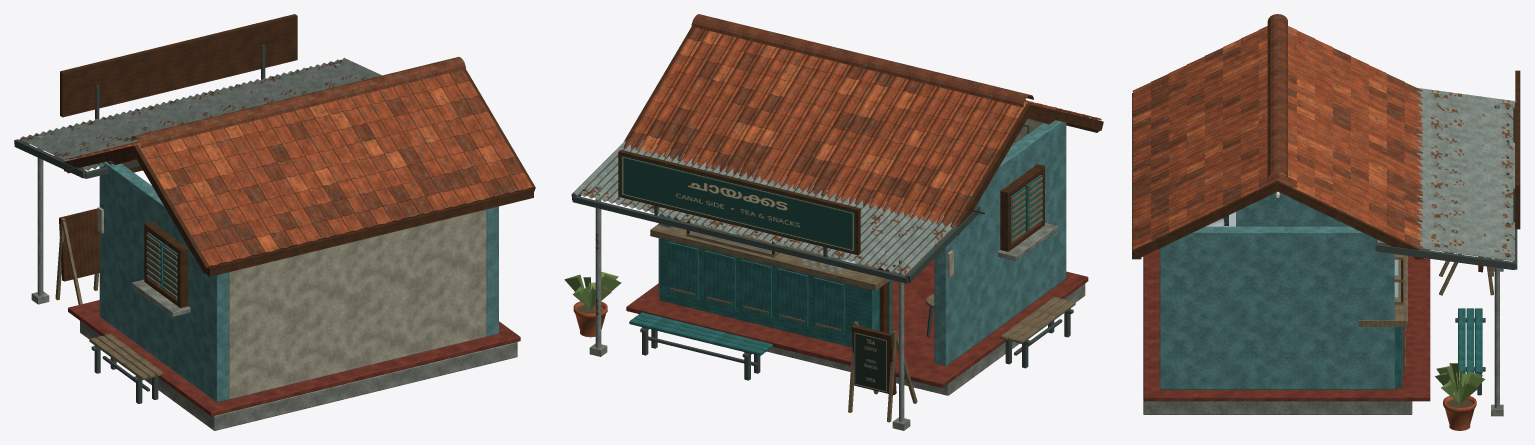
Rendered from BLD_TeaShop_Open_01.gltf.
3 views of the same model, side by side, from view 1: azimuth 30°, elevation 25°; view 2: azimuth 150°, elevation 25°; view 3: azimuth 270°, elevation 25° (orthographic). The views are drawn at different scales.
Parts seen in each view (by area): view 1: TF3_BLD_TeaShop_Open_01; view 2: TF3_BLD_TeaShop_Open_01; view 3: TF3_BLD_TeaShop_Open_01.
Boxes of the visible parts, x1,y1,x2,y2 form: TF3_BLD_TeaShop_Open_01: (14,14,535,430); TF3_BLD_TeaShop_Open_01: (564,14,1103,430); TF3_BLD_TeaShop_Open_01: (1132,14,1520,430).
Size of the model in its own units: 6.26 by 3.87 by 5.49.
Materials: 27 (13 with a texture image).
